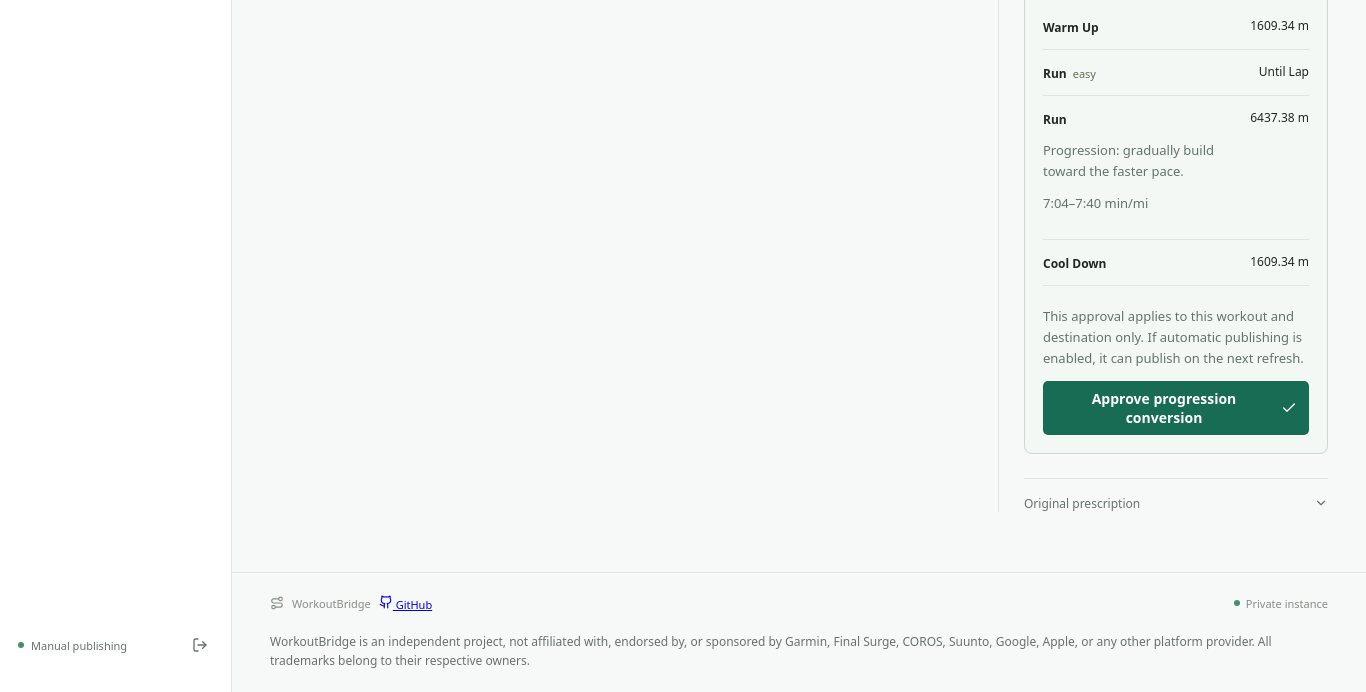
Test: progression suggestion requires explicit approval of the displayed plan
(page scrolled)
Expected: the text "Progression: gradually build toward the faster pace." is shown, [1043,140,1238,182]
Click the button "Approve progression conversion" at (1176, 408), box [1043,381,1309,435]
(page scrolled)
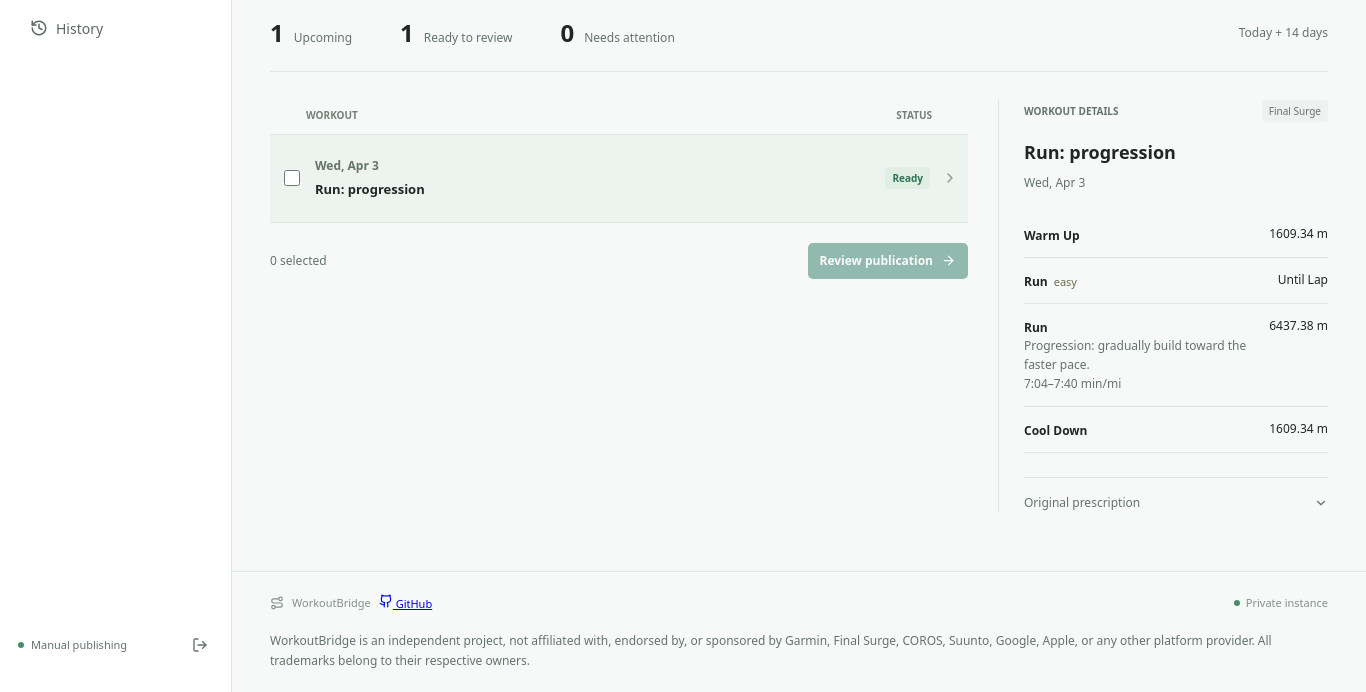
Expected: the button "Approve progression conversion" is gone
Expected: the checkbox named "Select Run: progression" is enabled, [284,170,300,186]
